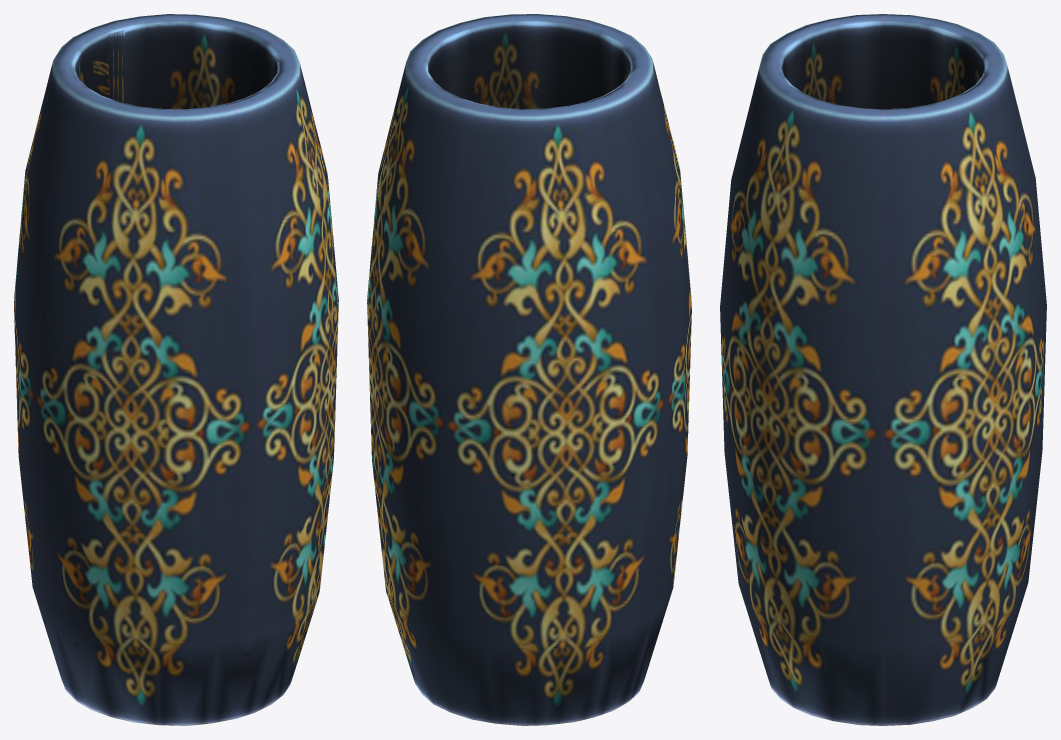
The model's file is crock4.fbx.
3 renders of one model, left to right at view 1: azimuth 30°, elevation 25°; view 2: azimuth 150°, elevation 25°; view 3: azimuth 270°, elevation 25°, orthographic.
Parts seen in each view (by area): view 1: crock4_LOD0; view 2: crock4_LOD0; view 3: crock4_LOD0.
Part boxes in pixels (x1,y1,x2,y2): crock4_LOD0: [14, 14, 338, 725]; crock4_LOD0: [367, 14, 691, 725]; crock4_LOD0: [720, 14, 1046, 725].
Size of what is drawn, in the model's own units: 0.3924 by 0.8161 by 0.3938.
